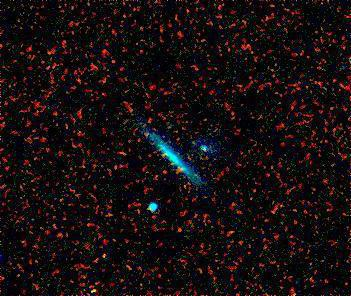star: (133, 101, 163, 131)
